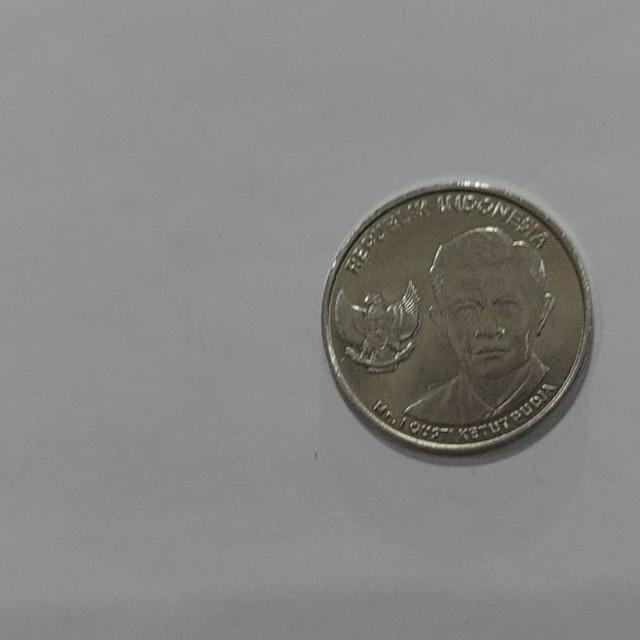Rp100: (321, 178, 594, 456), (398, 223, 560, 430)
